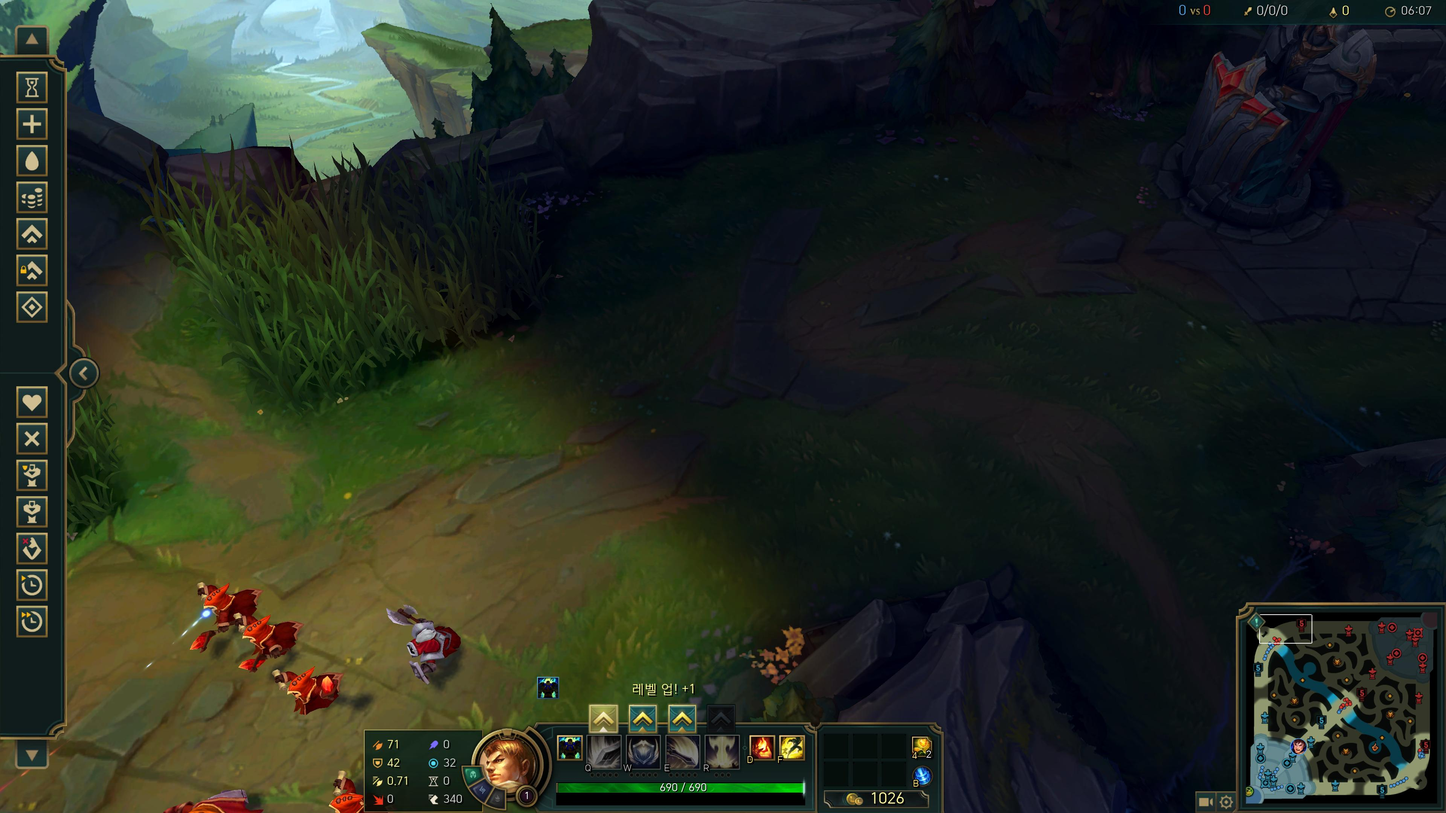enemy-caster-minion: (188, 581, 259, 651), (238, 615, 302, 671), (270, 668, 342, 715)
enemy-melee-minion: (386, 606, 460, 684)
enemy-tower: (1159, 26, 1376, 248)
